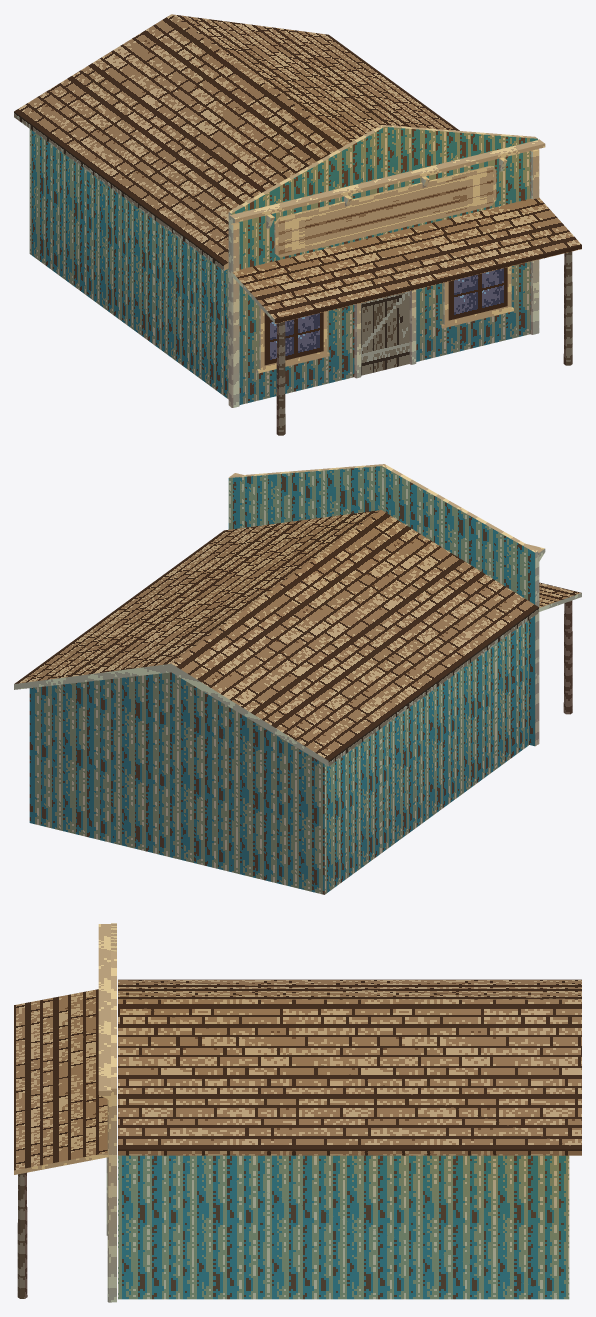
Rendered from wtown.store__battens.glb.
3 views of the same model, one above another, from view 1: azimuth 30°, elevation 25°; view 2: azimuth 150°, elevation 25°; view 3: azimuth 270°, elevation 25° (orthographic). The views are drawn at different scales.
Parts seen in each view (by area): view 1: kit_roof, kit_front, kit_body, kit_porch, kit_card_panes, kit_trim, kit_windows; view 2: kit_body, kit_roof, kit_front, kit_porch, kit_trim; view 3: kit_roof, kit_body, kit_porch, kit_trim, kit_front.
Boxes of the visible parts, x1=… form: kit_roof: x1=14, y1=14, x2=459, y2=270; kit_front: x1=228, y1=125, x2=537, y2=405; kit_body: x1=29, y1=129, x2=228, y2=399; kit_porch: x1=232, y1=197, x2=581, y2=435; kit_card_panes: x1=264, y1=169, x2=507, y2=375; kit_trim: x1=229, y1=139, x2=545, y2=407; kit_windows: x1=256, y1=266, x2=513, y2=373; kit_body: x1=29, y1=620, x2=528, y2=894; kit_roof: x1=14, y1=510, x2=538, y2=766; kit_front: x1=228, y1=464, x2=537, y2=746; kit_porch: x1=539, y1=582, x2=581, y2=714; kit_trim: x1=230, y1=473, x2=545, y2=744; kit_roof: x1=118, y1=979, x2=581, y2=1155; kit_body: x1=118, y1=1155, x2=569, y2=1299; kit_porch: x1=14, y1=989, x2=108, y2=1298; kit_trim: x1=98, y1=924, x2=111, y2=1302; kit_front: x1=111, y1=923, x2=116, y2=1302.
Bounding box in the file's own units: 8 × 5.9 × 11.32.
7 materials, 7 textured.
